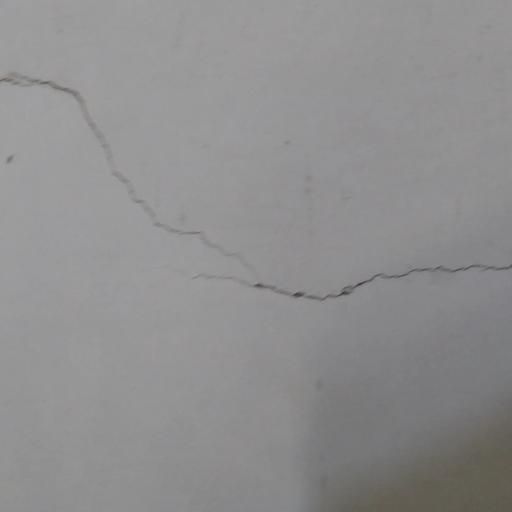minor_crack: (15, 75, 512, 305)
